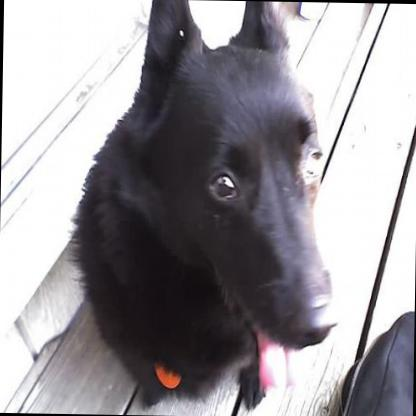schipperke: (69, 0, 341, 409)
